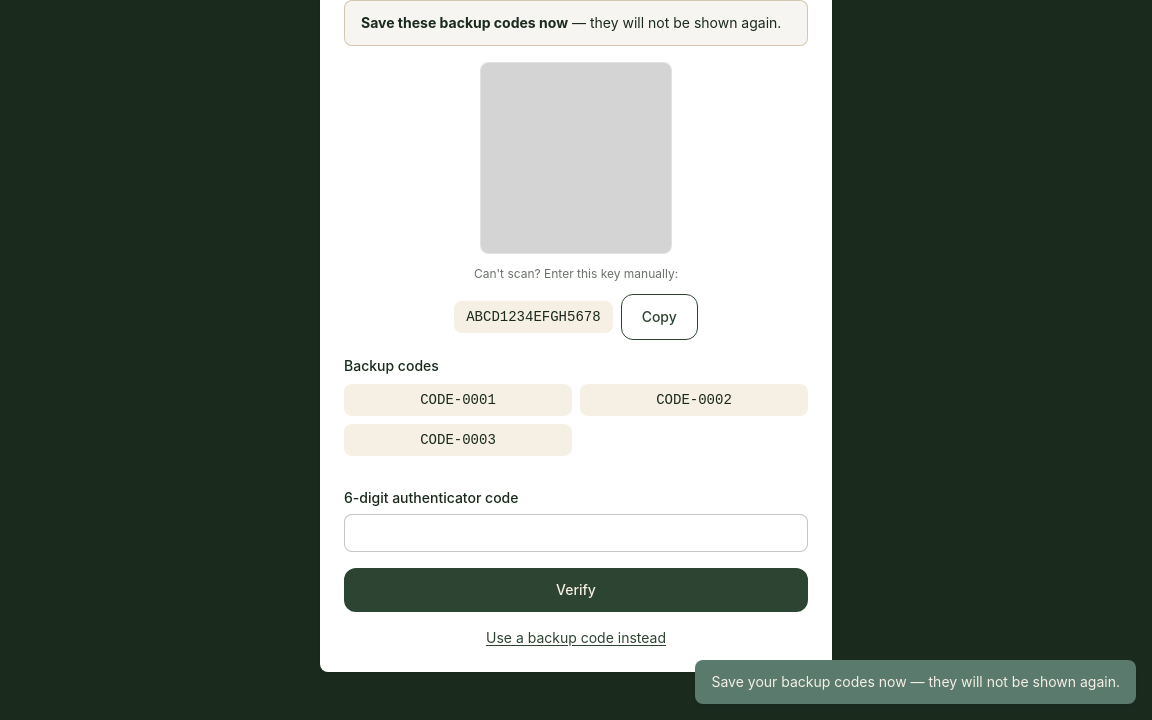
MfaPage › enrollment path (mfaEnrollmentRequired: true) › completes enrollment: generate -> confirm TOTP -> verify -> JWT issued -> dashboard
This screenshot has width=1152, height=720.
(page scrolled)
Expected: the text "ABCD1234EFGH5678" is shown, [454,301,613,333]
Type "654321" into the field labelled "6-digit authenticator code".
click(576, 533); type("654321")  # box [344,514,808,552]
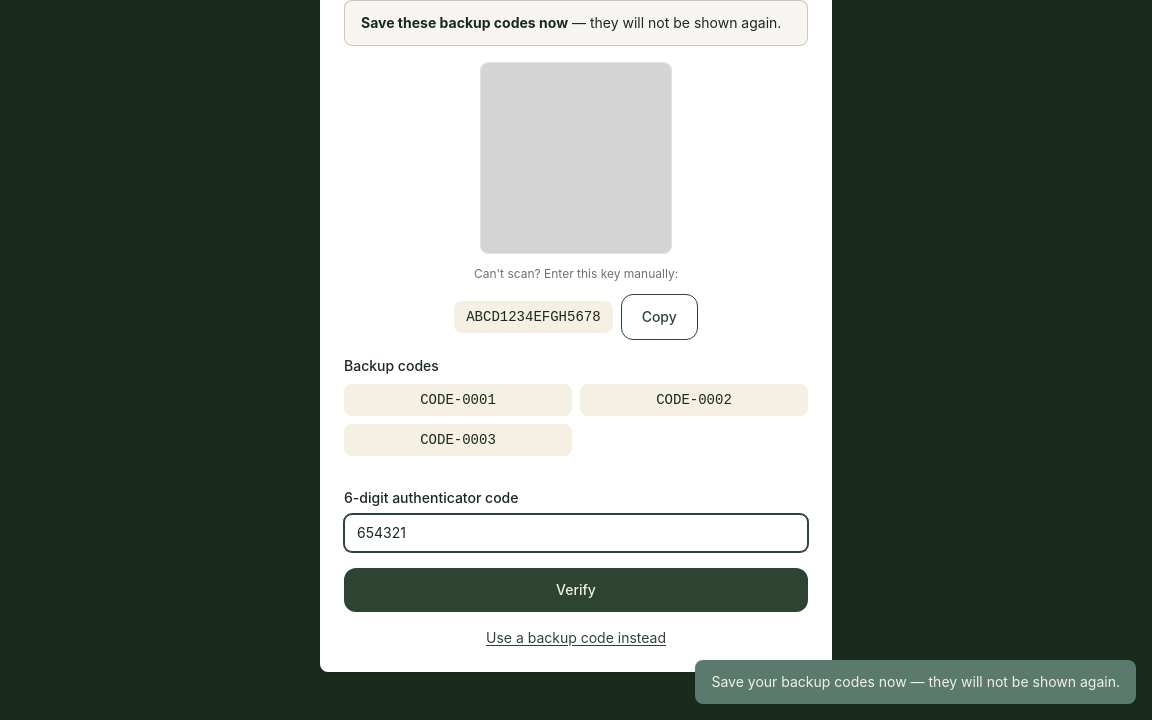
Click the button "Verify".
click(576, 590)  # box [344,568,808,612]
(page scrolled)
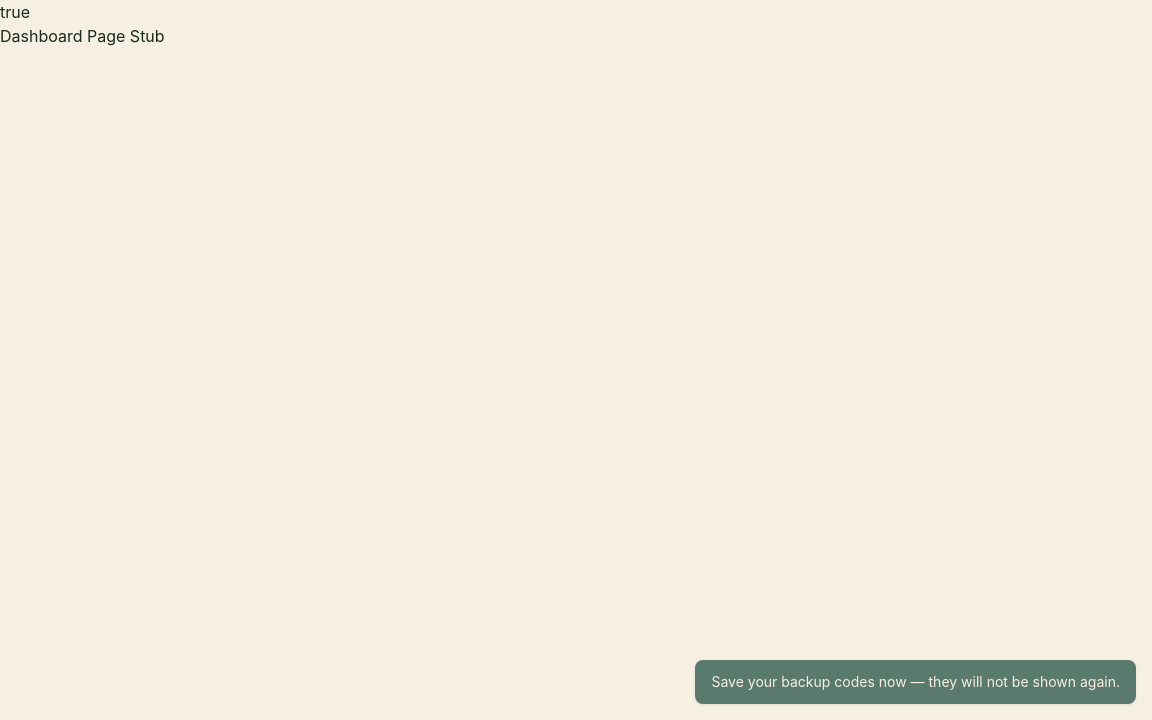
Now the text "Dashboard Page Stub" is shown, box [0,26,165,46]
